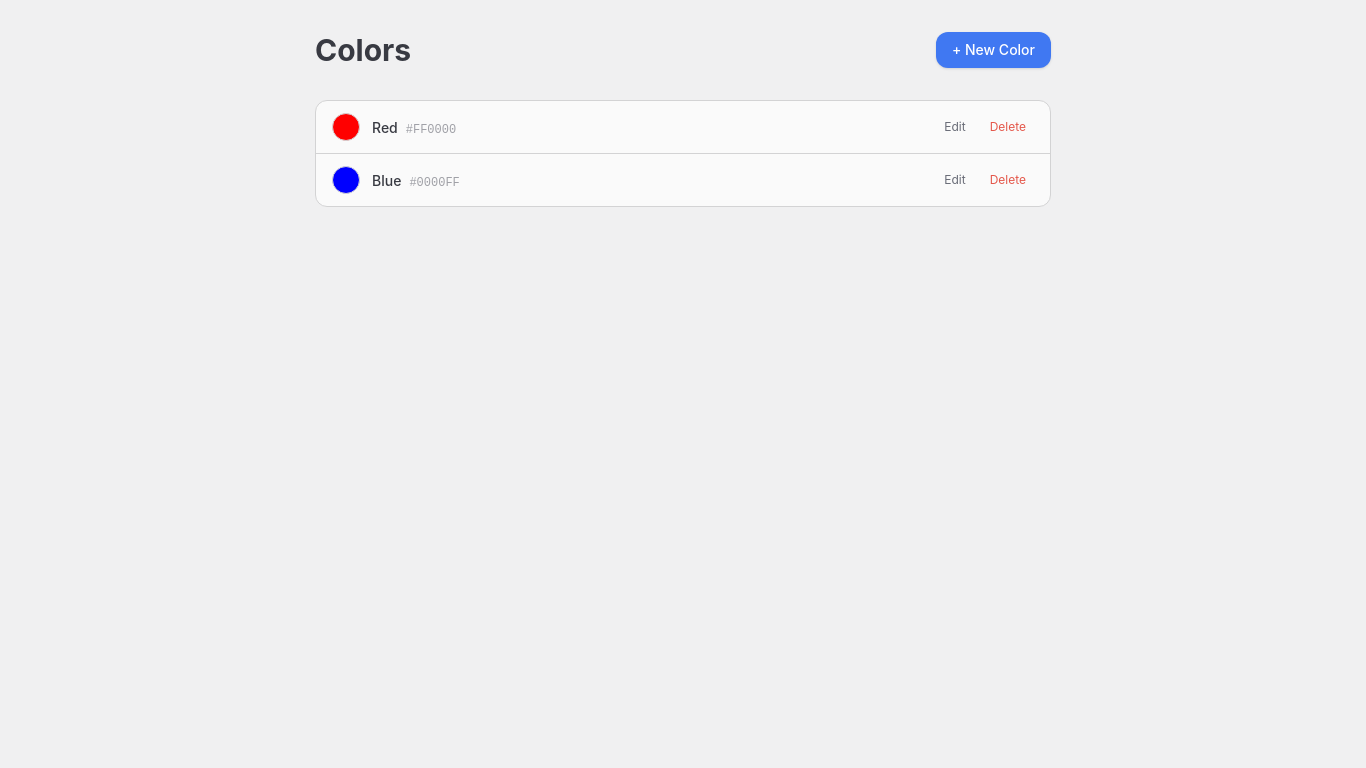
Scenario: ColorsPage › create color › opens the create modal when New Color is clicked
The image size is (1366, 768).
Check: the text "Red" is shown, box top-left (372, 119), bottom-right (398, 136)
Click the button "+ New Color".
click(993, 50)  # box top-left (936, 32), bottom-right (1051, 68)
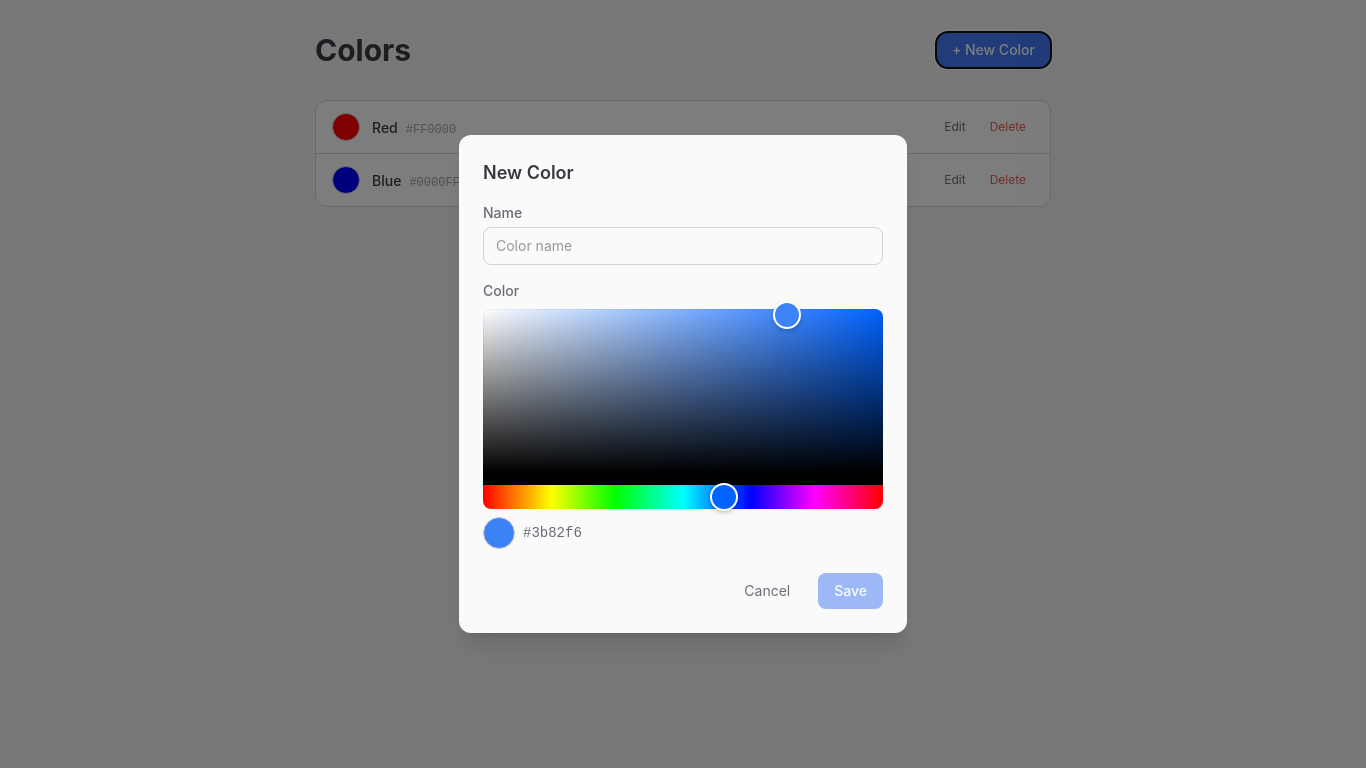
Check: the heading "New Color" is shown, box top-left (483, 162), bottom-right (574, 183)
